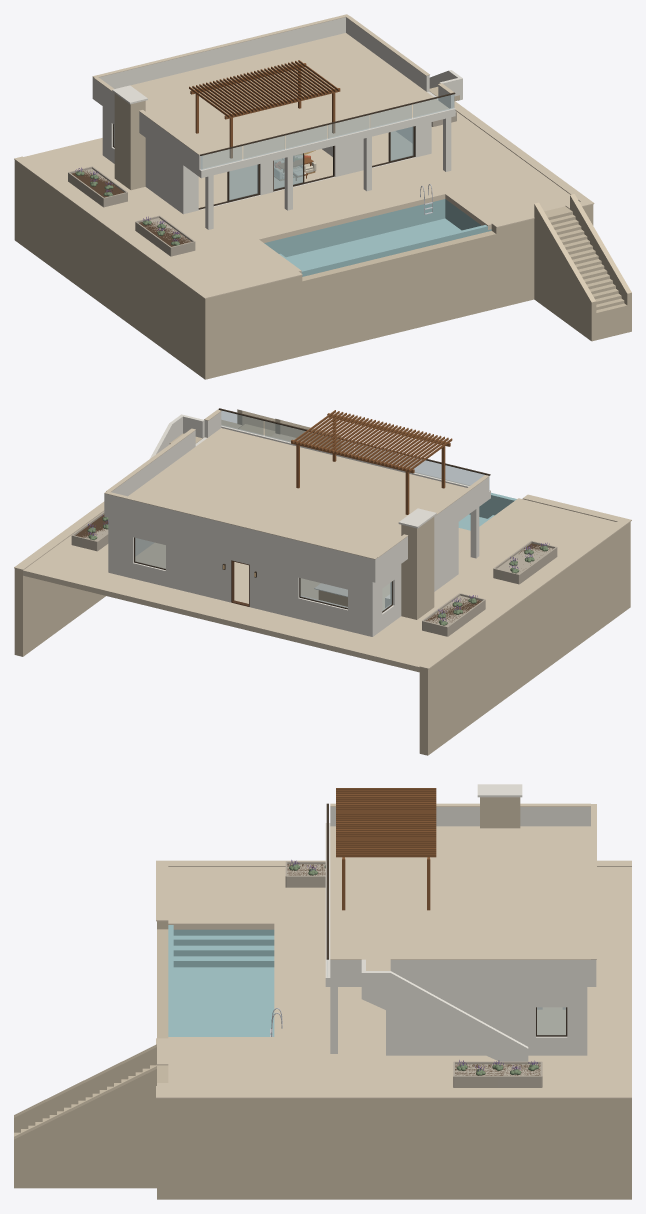
File: kit.glb
3 views of the same model, one above another, from view 1: azimuth 30°, elevation 25°; view 2: azimuth 150°, elevation 25°; view 3: azimuth 270°, elevation 25° (orthographic). The views are drawn at different scales.
Parts seen in each view (by area): view 1: Deck_mesh, Roof_Deck_mesh, Wall_Side_W_mesh, Retaining_Wall_Mid_mesh, Retaining_Wall_W_mesh, Step_Wall_1_mesh, Parapet_Back_mesh, Garden_Steps_mesh, Pool_Wall_N_mesh, Floor_mesh, Retaining_Wall_E_mesh, Wall_Front_mesh (+25 smaller); view 2: Roof_Deck_mesh, Deck_mesh, Wall_Side_W_mesh, Wall_Back_mesh, Parapet_Back_mesh, Wall_Side_E_mesh, Chimney_mesh, Roof_Slab_mesh, Wall_West_mesh, Coping_SideW_mesh, Floor_mesh, Parapet_West_mesh (+16 smaller); view 3: Wall_Side_E_mesh, Deck_mesh, Roof_Deck_mesh, Step_Wall_2_mesh, Wall_East_mesh, Pool_Floor_mesh, Stair_Wall_mesh, Parapet_East_A_mesh, Coping_SideE_mesh, Step_Wall_1_mesh, Parapet_West_mesh, Planter_3_mesh (+19 smaller).
Part boxes in pixels (<box>): Deck_mesh: <box>23,111,579,292</box>; Roof_Deck_mesh: <box>130,33,448,168</box>; Wall_Side_W_mesh: <box>14,160,212,379</box>; Retaining_Wall_Mid_mesh: <box>302,231,496,355</box>; Retaining_Wall_W_mesh: <box>213,275,302,377</box>; Step_Wall_1_mesh: <box>534,202,596,341</box>; Parapet_Back_mesh: <box>92,17,345,94</box>; Garden_Steps_mesh: <box>544,206,627,340</box>; Pool_Wall_N_mesh: <box>264,199,445,257</box>; Floor_mesh: <box>198,131,412,207</box>; Retaining_Wall_E_mesh: <box>491,219,534,308</box>; Wall_Front_mesh: <box>181,122,431,214</box>; Roof_Deck_mesh: <box>128,428,466,556</box>; Deck_mesh: <box>23,498,616,672</box>; Wall_Side_W_mesh: <box>419,522,630,755</box>; Wall_Back_mesh: <box>108,517,374,636</box>; Parapet_Back_mesh: <box>104,493,377,576</box>; Wall_Side_E_mesh: <box>14,568,105,656</box>; Chimney_mesh: <box>401,517,434,619</box>; Roof_Slab_mesh: <box>104,437,490,582</box>; Wall_West_mesh: <box>375,524,455,634</box>; Coping_SideW_mesh: <box>419,521,626,669</box>; Floor_mesh: <box>135,542,390,609</box>; Parapet_West_mesh: <box>377,477,488,574</box>; Wall_Side_E_mesh: <box>157,1098,631,1199</box>; Deck_mesh: <box>168,867,631,1092</box>; Roof_Deck_mesh: <box>330,826,590,970</box>; Step_Wall_2_mesh: <box>14,1066,156,1188</box>; Wall_East_mesh: <box>391,987,581,1055</box>; Pool_Floor_mesh: <box>173,967,274,1036</box>; Stair_Wall_mesh: <box>361,971,528,1061</box>; Parapet_East_A_mesh: <box>390,959,591,979</box>; Coping_SideE_mesh: <box>168,1092,631,1098</box>; Step_Wall_1_mesh: <box>14,1044,156,1132</box>; Parapet_West_mesh: <box>330,807,590,826</box>; Planter_3_mesh: <box>453,1061,542,1087</box>.
Size of the model in its own units: 25.1 by 11.55 by 27.65.
